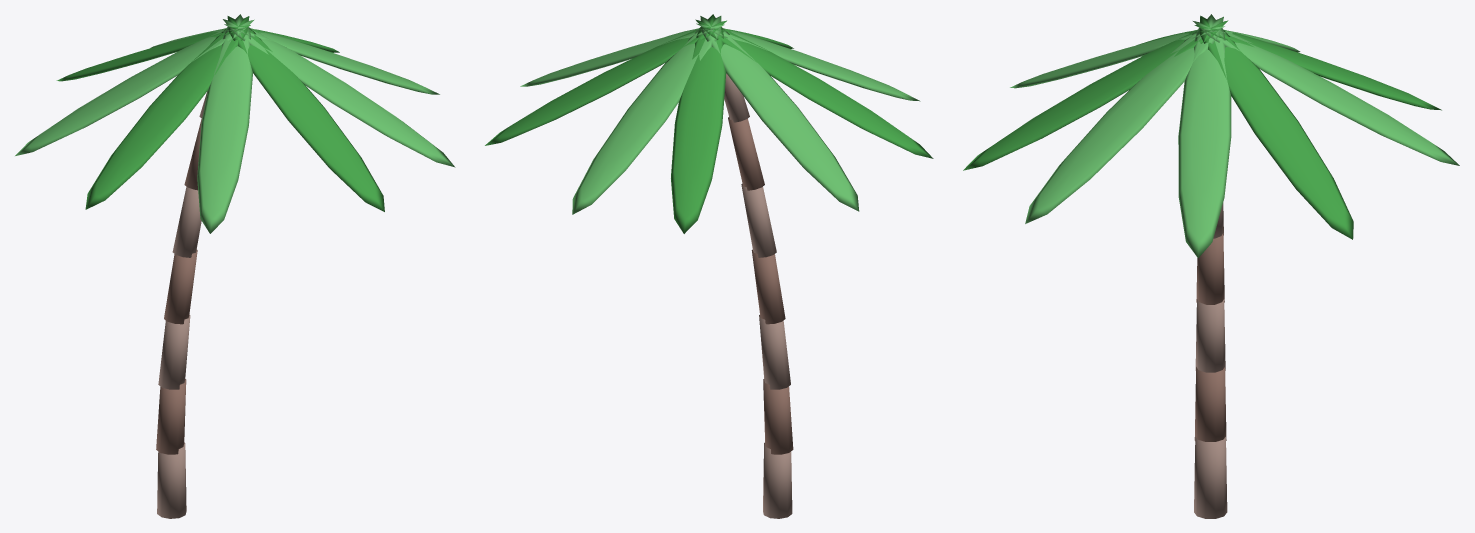
Rendered from Palm.glb.
3 views of the same model, side by side, from view 1: azimuth 30°, elevation 25°; view 2: azimuth 150°, elevation 25°; view 3: azimuth 270°, elevation 25° (orthographic). The views are drawn at different scales.
Parts seen in each view (by area): view 1: Palm; view 2: Palm; view 3: Palm.
Boxes of the visible parts, x1=… form: Palm: x1=15, y1=14, x2=455, y2=518; Palm: x1=485, y1=14, x2=933, y2=518; Palm: x1=963, y1=14, x2=1459, y2=518.
Bounding box in the file's own units: 7.06 × 8.34 × 7.15.
